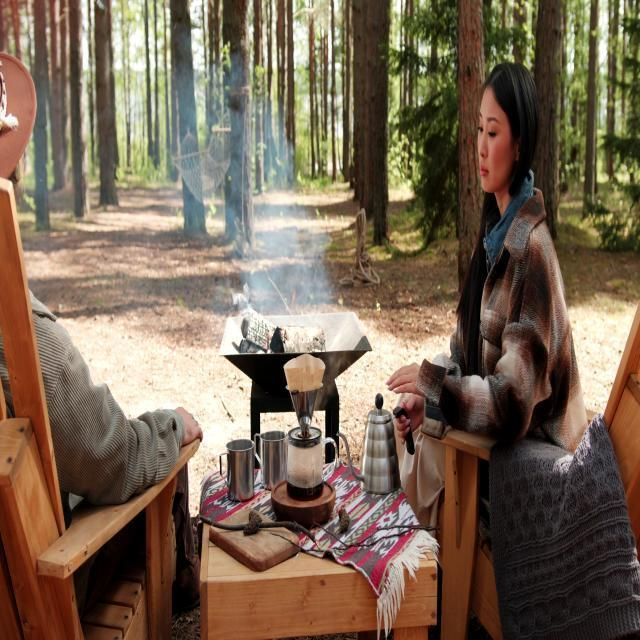Smoke: (183, 74, 337, 336)
